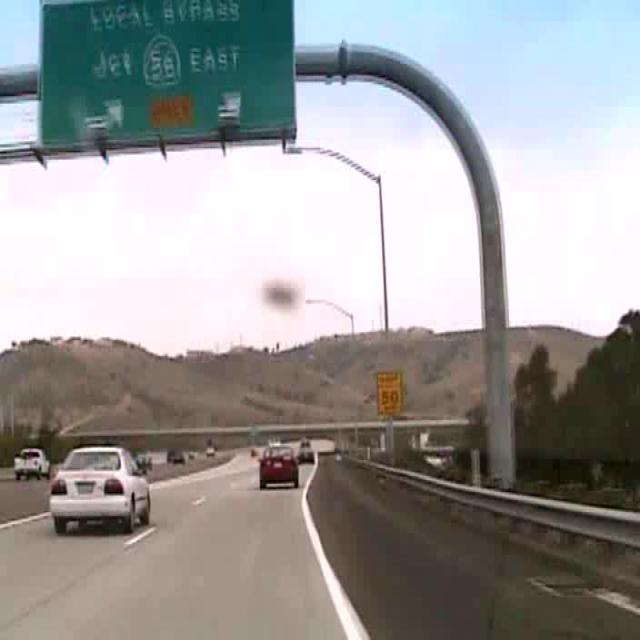speedLimit50: (375, 371, 402, 416)
